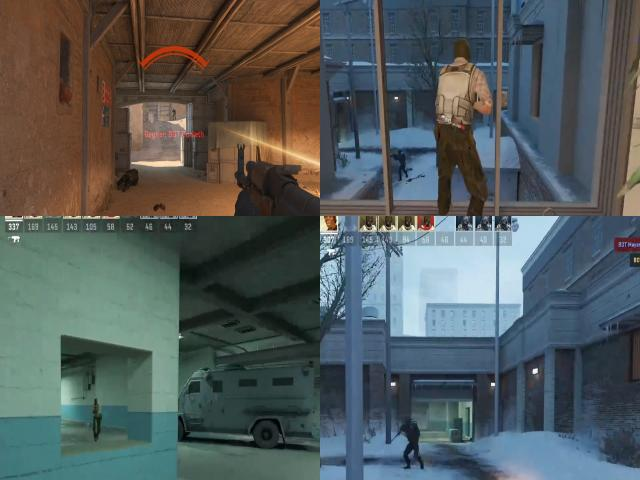CT: (405, 413, 420, 452), (396, 148, 406, 177), (172, 107, 176, 120)
CT-Head: (403, 415, 412, 427), (398, 149, 404, 160), (173, 108, 174, 110)
Dead: (118, 169, 140, 188)
T: (432, 37, 492, 139), (88, 393, 106, 437)
T-Head: (449, 38, 474, 72), (92, 397, 101, 409)
